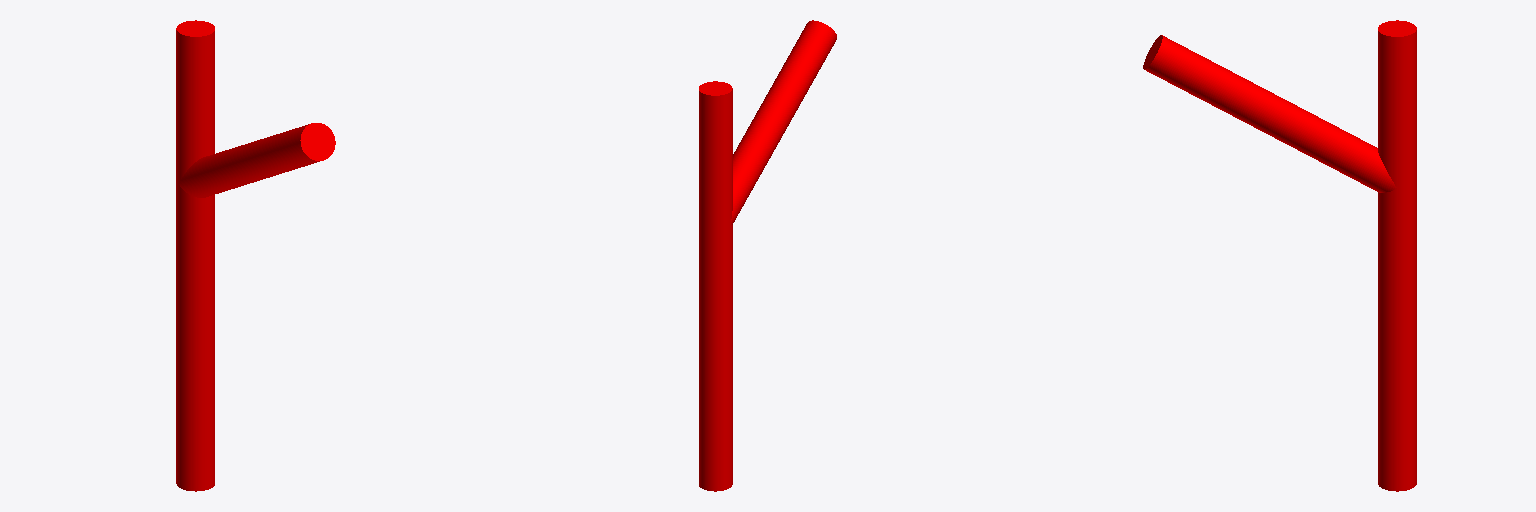
The robot description file, URDF, robot "tree.urdf":
<?xml version="1.0" ?>
<robot name="tree.urdf">
  <link name="baseLink">
    <inertial>
      <origin rpy="0 0 0" xyz="0 0 0"/>
       <mass value=".1"/>
       <inertia ixx="1" ixy="0" ixz="0" iyy="1" iyz="0" izz="1"/>
    </inertial>
    <contact>
      <lateral_friction value="1.0"/>
      <inertia_scaling value="3.0"/>
    </contact>
    <visual>
      <origin rpy="0 0 0" xyz="0 0 0"/>
      <geometry>
        <mesh filename="15.stl" scale="1 1 1" />
      </geometry>
      <material name="red">
        <color rgba="1 0 0 1"/>
      </material>
    </visual>
    <collision>
      <origin rpy="0 0 0" xyz="0 0 0"/>
      <geometry>
        <mesh filename="15_convex.obj" scale="1 1 1" />
      </geometry>
    </collision>
  </link>
</robot>

--- What the picture shows (computed from the rendered views, not written in the file) ---
The picture shows the robot from 3 angles, left to right: view 1: azimuth 30°, elevation 25°; view 2: azimuth 150°, elevation 25°; view 3: azimuth 270°, elevation 25°; orthographic projection.
Robot: tree.urdf — 1 links, 0 joints (none); root link baseLink; default pose: every joint at zero.
Links seen in each view (by area): view 1: baseLink; view 2: baseLink; view 3: baseLink.
Link boxes in pixels (x1=…): baseLink: x1=176, y1=20, x2=335, y2=491; baseLink: x1=699, y1=20, x2=836, y2=491; baseLink: x1=1143, y1=20, x2=1416, y2=491.
Size in the robot's own frame: 0.0194 by 0.1364 by 0.25 metres.
Meshes: 1 distinct files referenced, 1 mesh visuals loaded (1 binary STL).